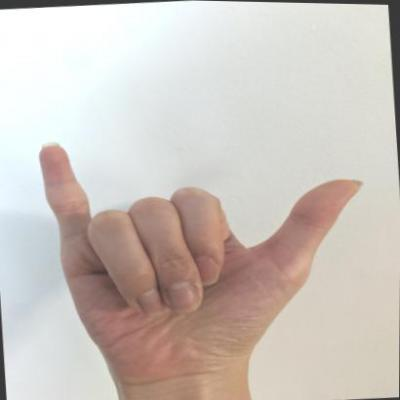hand: (32, 116, 384, 400)
